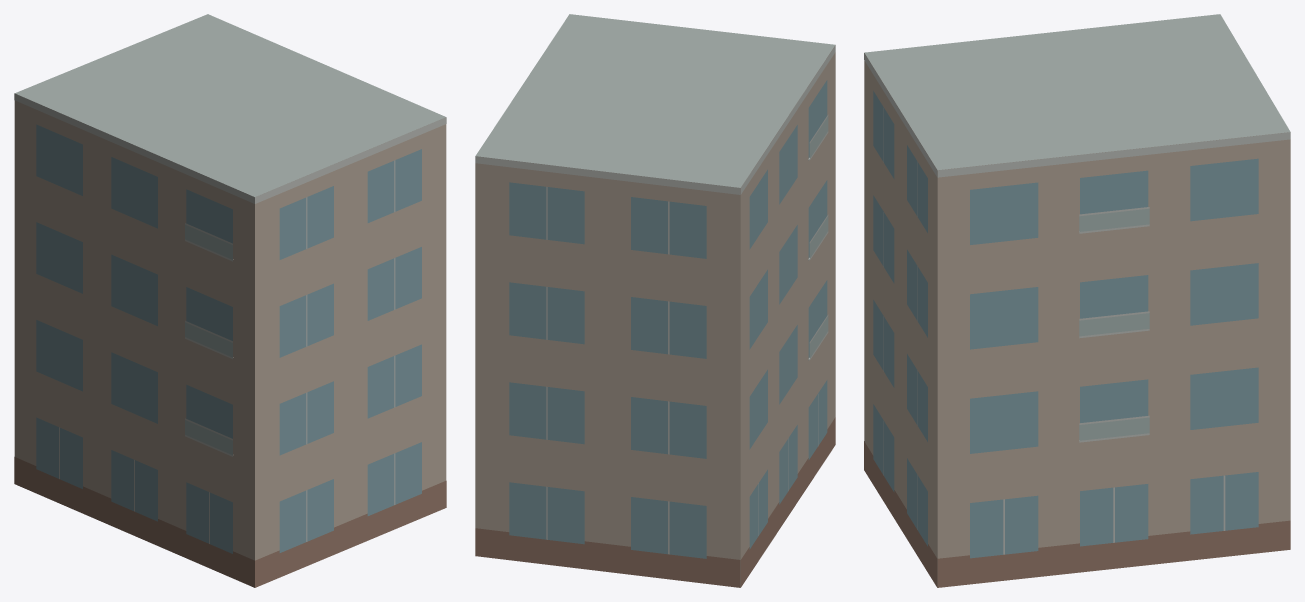
Rendered from survey-upis-32676938.glb.
3 renders of one model, left to right at view 1: azimuth 30°, elevation 25°; view 2: azimuth 150°, elevation 25°; view 3: azimuth 270°, elevation 25°, orthographic. The views are drawn at different scales.
Visible parts, largest first — view 1: survey-upis-32676938.tmp; view 2: survey-upis-32676938.tmp; view 3: survey-upis-32676938.tmp.
Part boxes in pixels (x1=…): survey-upis-32676938.tmp: x1=14, y1=14, x2=446, y2=587; survey-upis-32676938.tmp: x1=475, y1=14, x2=835, y2=587; survey-upis-32676938.tmp: x1=864, y1=14, x2=1290, y2=587.
Bounding box in the file's own units: 11.09 × 13.81 × 12.79.
